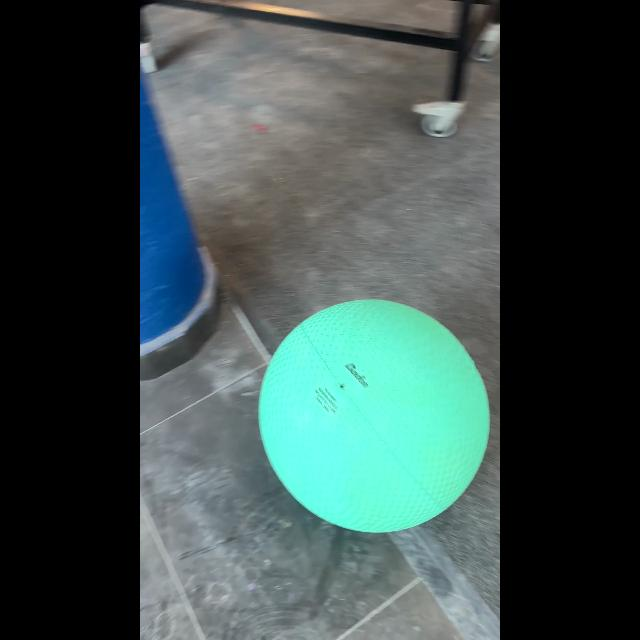ALGAE: (257, 298, 491, 534)
